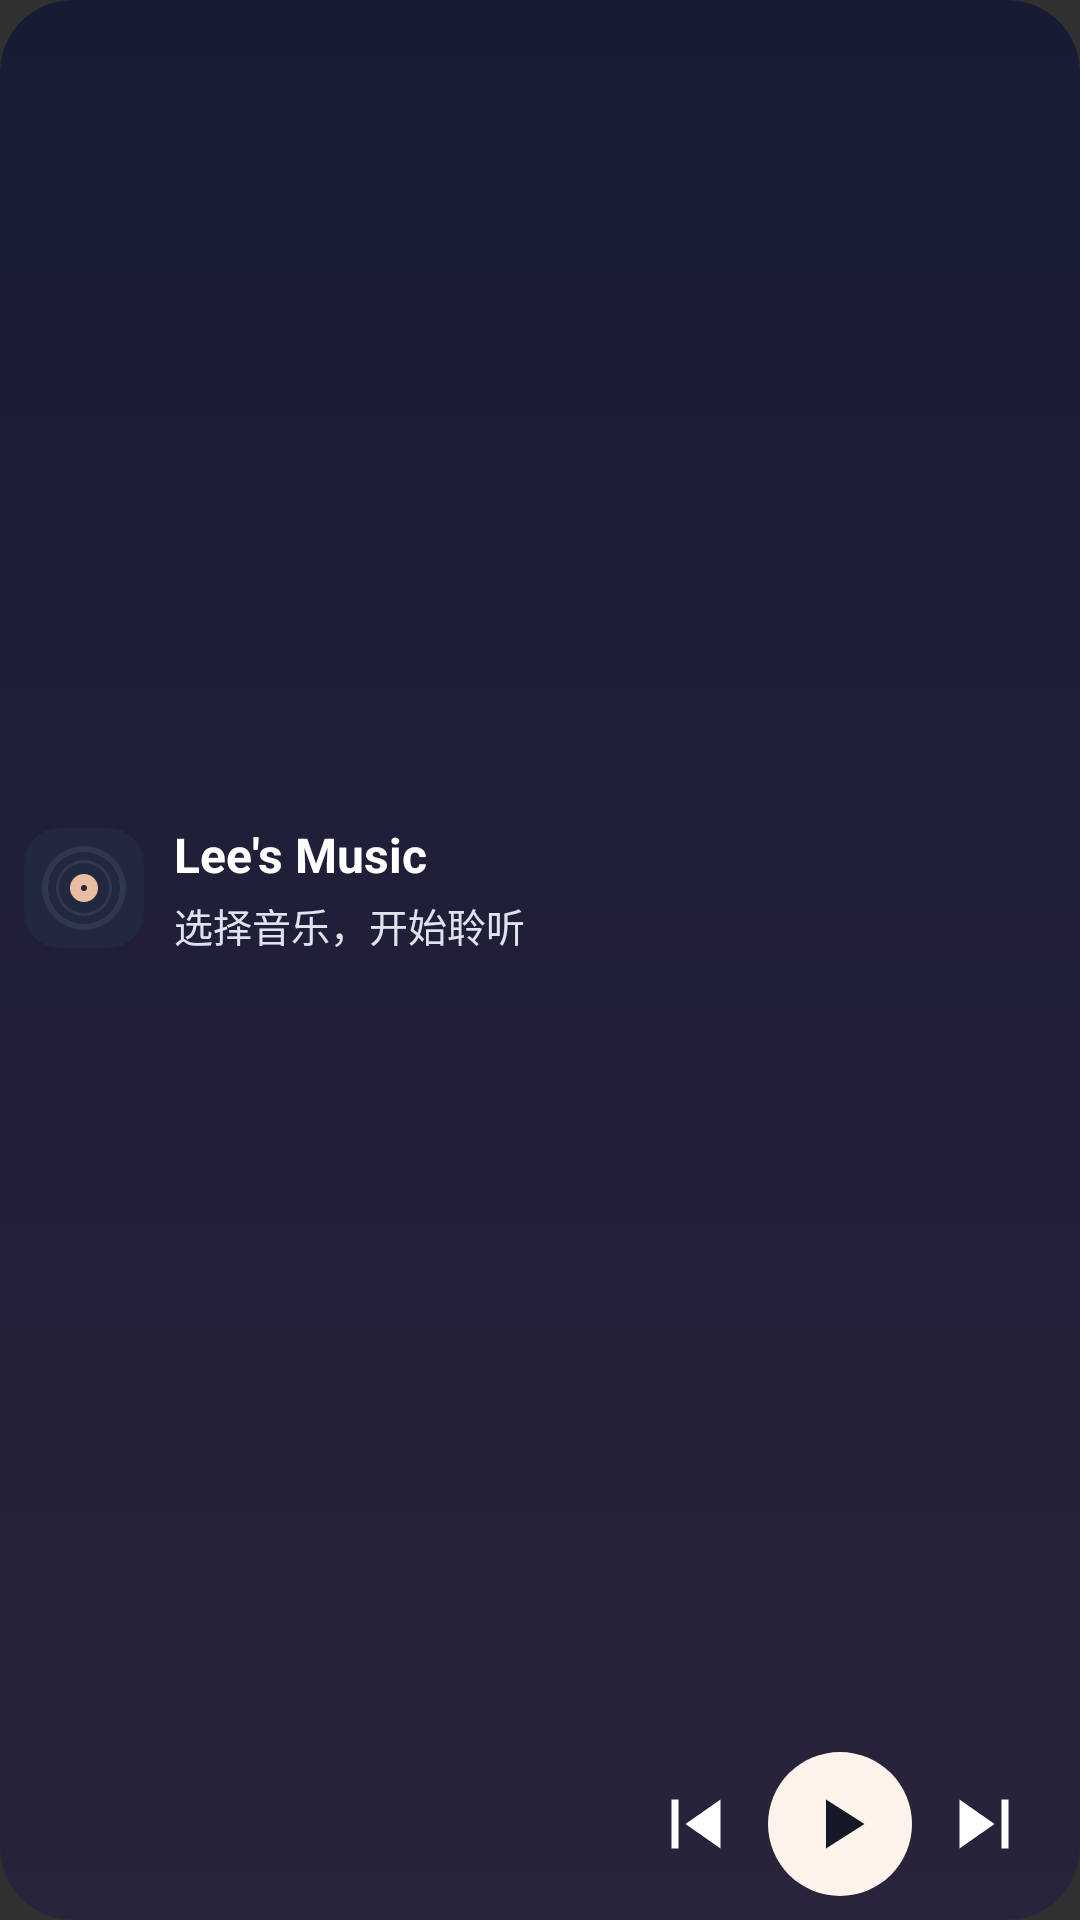

Where to tap for icons on this 1080×1920 app screen, as (x,y):
上一首: (696,1824)
下一首: (984,1824)
播放: (840,1824)
